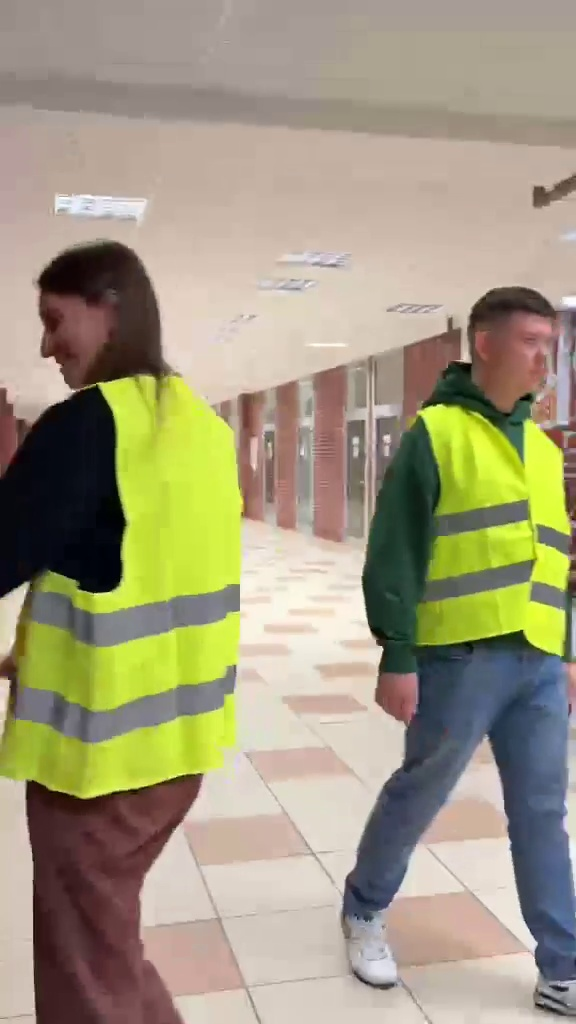vest: (2, 243, 244, 989), (367, 283, 573, 997)
